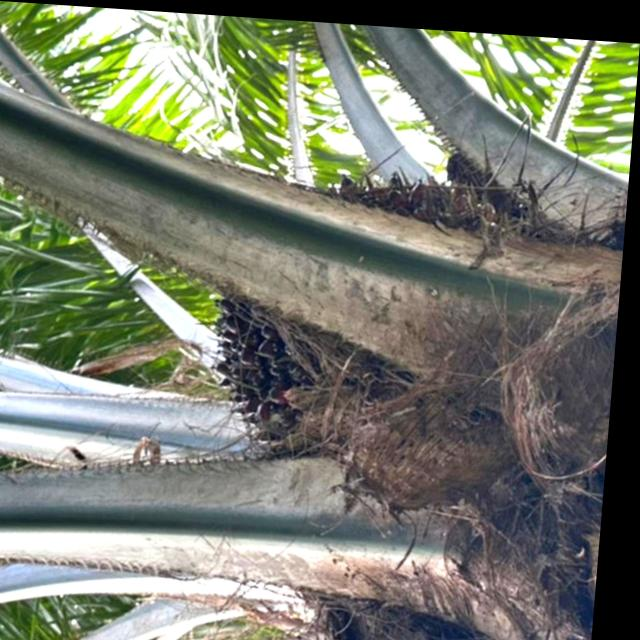ripe: (188, 267, 359, 472)
